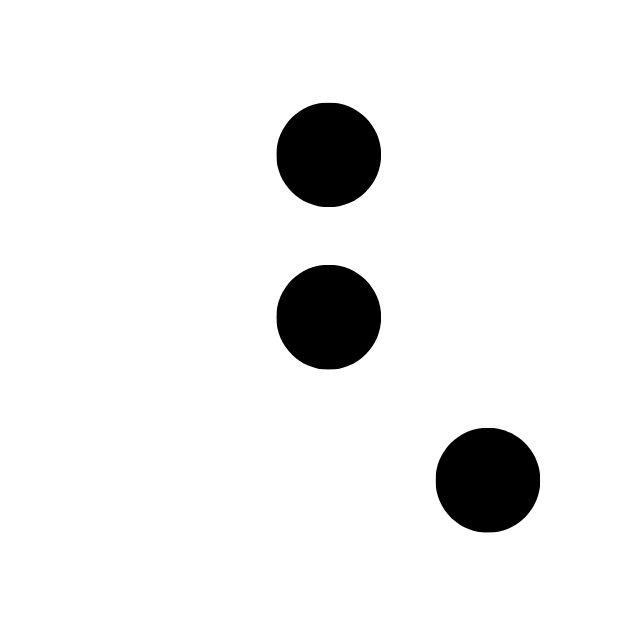ng: (273, 97, 545, 539)
